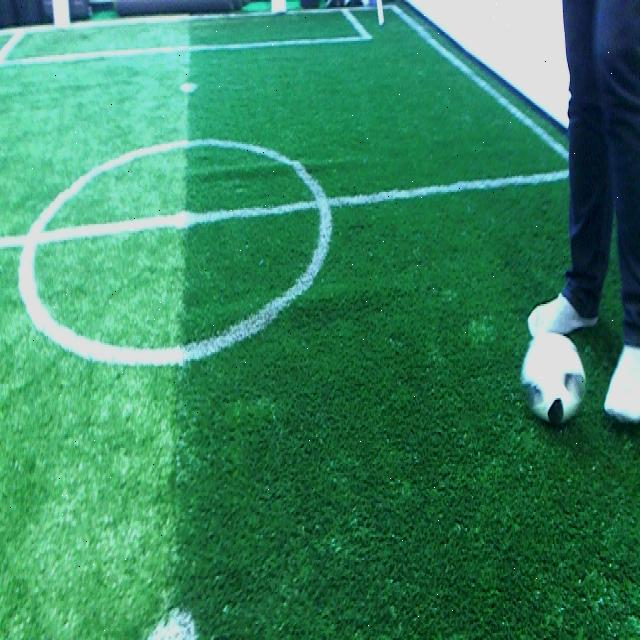ball: (520, 332, 585, 425)
